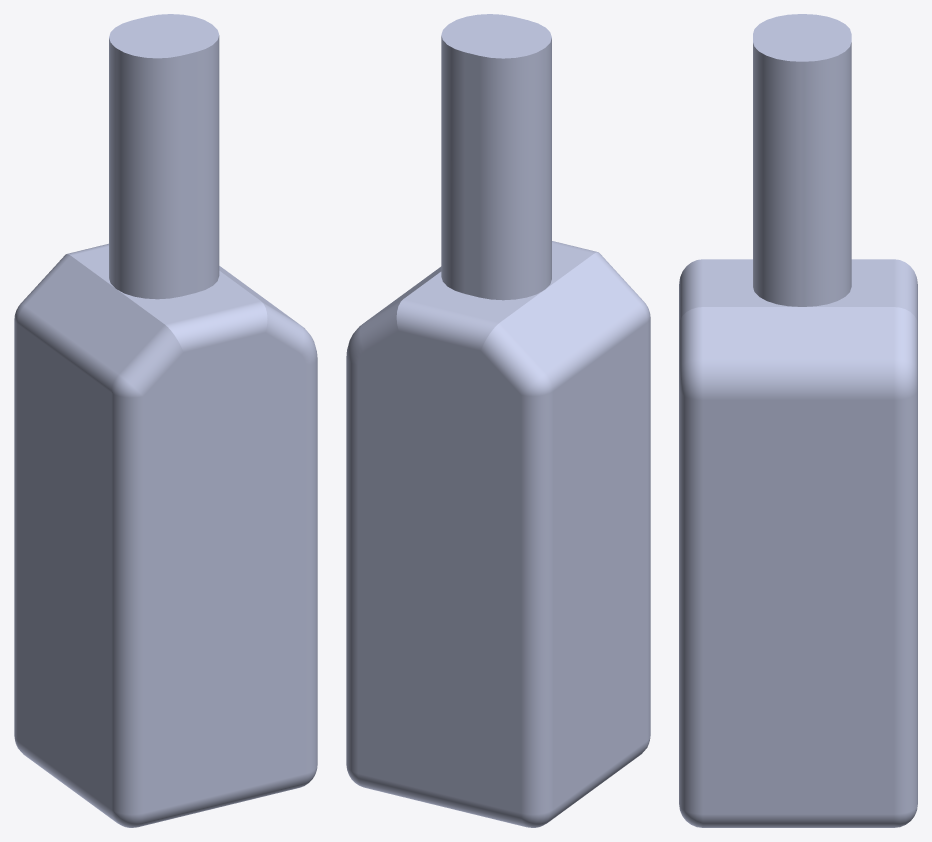
File: A1SteakSauce.dae
3 renders of one model, left to right at view 1: azimuth 30°, elevation 25°; view 2: azimuth 150°, elevation 25°; view 3: azimuth 270°, elevation 25°, orthographic.
Parts seen in each view (by area): view 1: Actor0; view 2: Actor0; view 3: Actor0.
Boxes of the visible parts, x1=… form: Actor0: x1=14, y1=14, x2=317, y2=827; Actor0: x1=346, y1=14, x2=650, y2=827; Actor0: x1=679, y1=14, x2=917, y2=827.
Bounding box in the file's own units: 0.0508 × 0.1755 × 0.0508.
